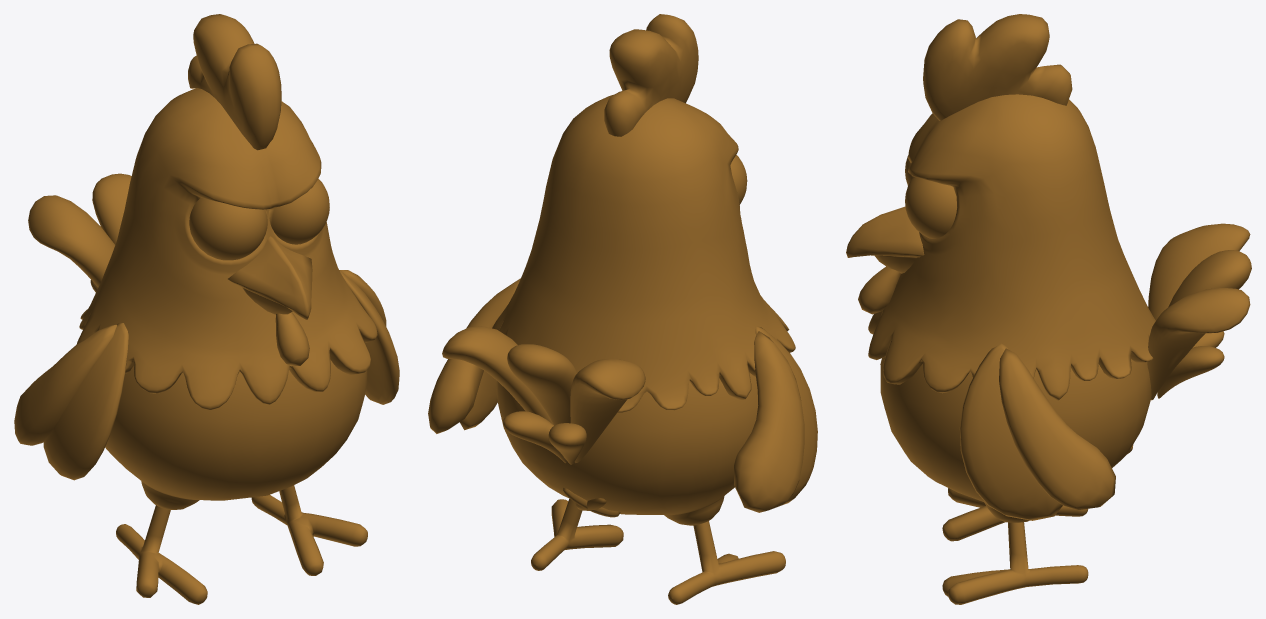
File: ChickenA01.fbx
The picture shows the model from 3 angles, left to right: view 1: azimuth 30°, elevation 25°; view 2: azimuth 150°, elevation 25°; view 3: azimuth 270°, elevation 25°; orthographic projection.
Parts seen in each view (by area): view 1: ChickenA_Head, ChickenA_Pelvis, ChickenA_WingR, ChickenA_Comb, ChickenA_Tail, ChickenA_WingL, ChickenA_Wattle; view 2: ChickenA_Head, ChickenA_Pelvis, ChickenA_Tail, ChickenA_WingR, ChickenA_Comb, ChickenA_WingL; view 3: ChickenA_Head, ChickenA_Pelvis, ChickenA_WingL, ChickenA_Tail, ChickenA_Comb, ChickenA_Wattle.
Boxes of the visible parts, x1,y1,x2,y2 form: ChickenA_Head: (76,88,377,409); ChickenA_Pelvis: (105,360,367,604); ChickenA_WingR: (14,323,128,480); ChickenA_Comb: (188,14,281,150); ChickenA_Tail: (28,173,131,292); ChickenA_WingL: (339,270,399,404); ChickenA_Wattle: (275,312,309,365); ChickenA_Head: (492,95,795,412); ChickenA_Pelvis: (496,372,785,604); ChickenA_Tail: (442,326,645,464); ChickenA_WingR: (734,326,817,512); ChickenA_Comb: (604,14,698,136); ChickenA_WingL: (428,278,520,433); ChickenA_Head: (846,94,1155,400); ChickenA_Pelvis: (880,357,1151,604); ChickenA_WingL: (959,343,1115,520); ChickenA_Tail: (1147,223,1251,400); ChickenA_Comb: (923,14,1072,120); ChickenA_Wattle: (858,266,900,314).
Bounding box in the file's own units: 57.99 × 85.09 × 56.82.
